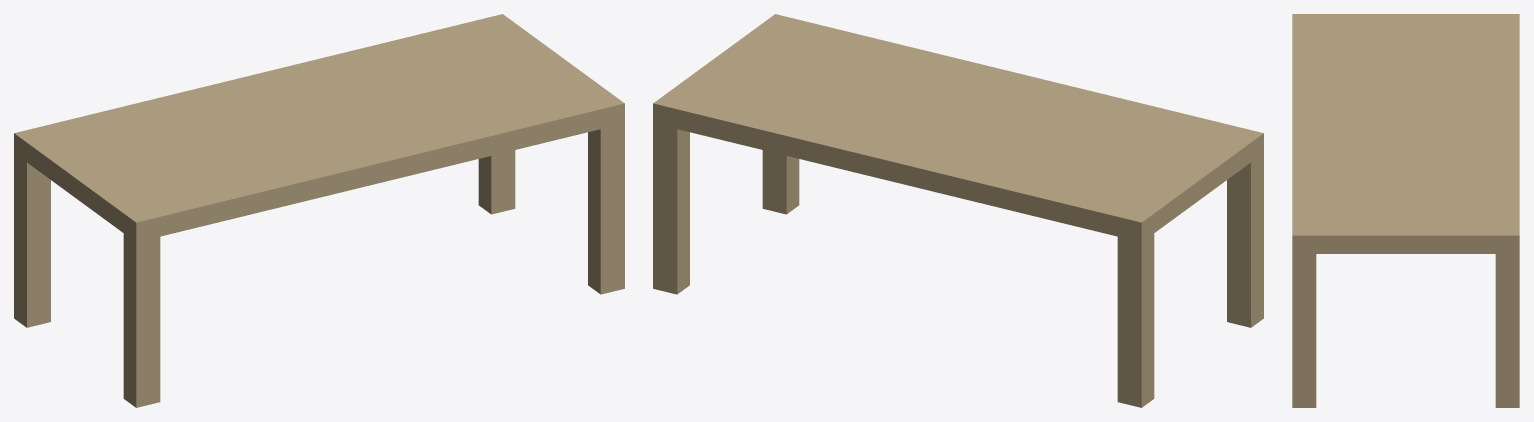
The model's file is table.fbx.
3 renders of one model, left to right at view 1: azimuth 30°, elevation 25°; view 2: azimuth 150°, elevation 25°; view 3: azimuth 270°, elevation 25°, orthographic. The views are drawn at different scales.
Parts seen in each view (by area): view 1: table2; view 2: table2; view 3: table2.
Part boxes in pixels (bbox=[...]): table2: bbox=[14, 14, 624, 407]; table2: bbox=[653, 14, 1263, 407]; table2: bbox=[1292, 14, 1519, 407].
Bounding box in the file's own units: 2 × 0.725 × 0.8661.
